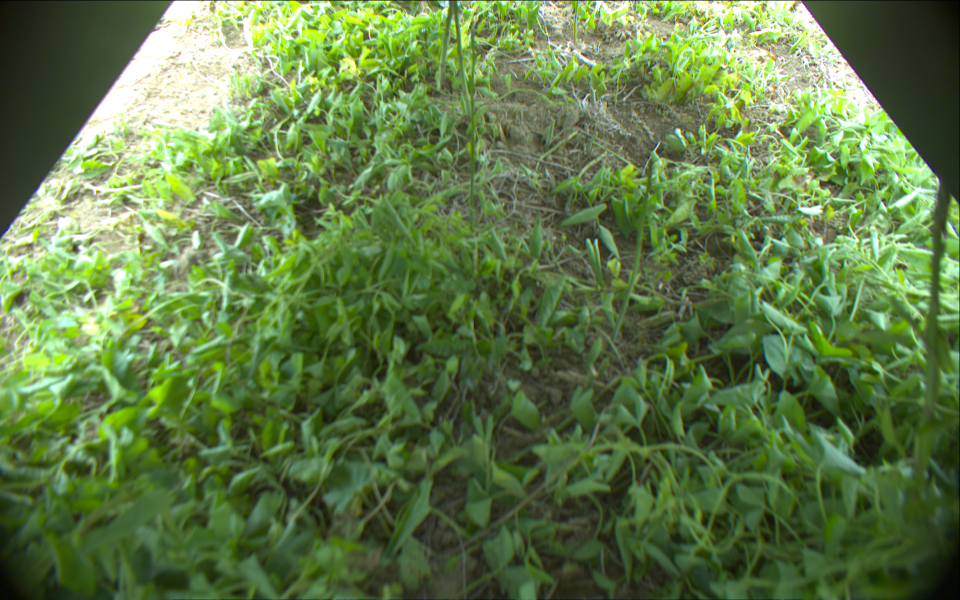aspa: (911, 177, 954, 484), (609, 159, 652, 348), (453, 1, 471, 104), (466, 102, 479, 230), (438, 1, 454, 89)
